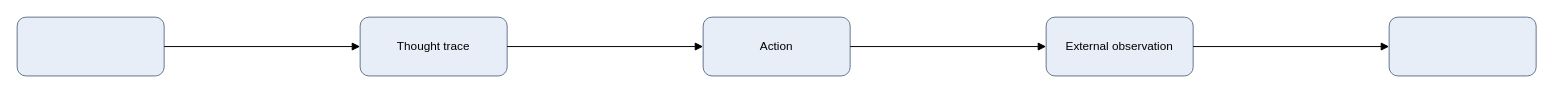
Image size: 1553x93. Some labels were removed from this diagram. Here are the shapes that lost their labels. From the top down, the centre of each, then its label:
the point at 90,46: Task
the point at 1462,46: Updated thought and action
